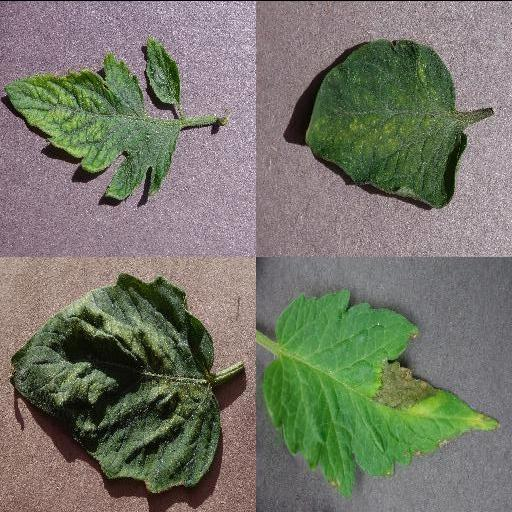Late Blight: (262, 290, 498, 496)
Mosaic Virus: (3, 38, 181, 200)
Spider Mites: (9, 272, 223, 492), (304, 38, 468, 208)
